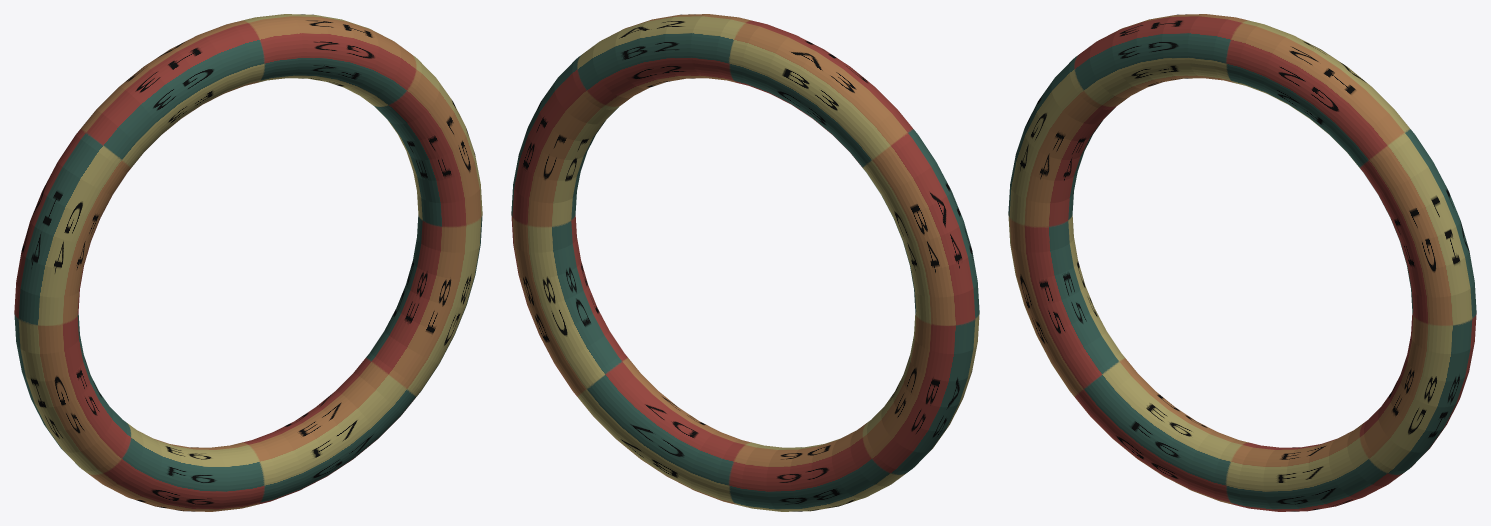
File: texture_torus_R30_r8.glb
3 renders of one model, left to right at view 1: azimuth 30°, elevation 25°; view 2: azimuth 150°, elevation 25°; view 3: azimuth 330°, elevation 25°, orthographic.
Parts seen in each view (by area): view 1: world; view 2: world; view 3: world.
Boxes of the visible parts, bbox=[...] form: world: bbox=[14, 14, 482, 511]; world: bbox=[511, 14, 979, 511]; world: bbox=[1008, 14, 1476, 511].
Bounding box in the file's own units: 34.13 × 34.07 × 4.13.
Materials: 1 (1 with a texture image).
